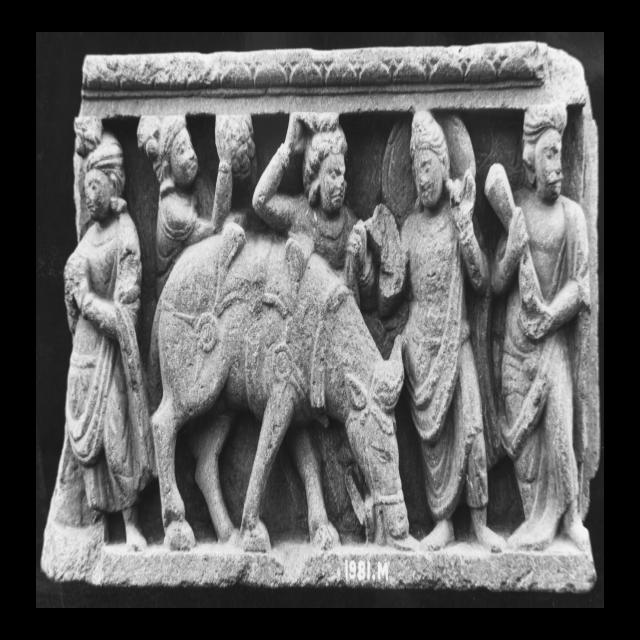buddha-standing: (369, 109, 505, 551)
